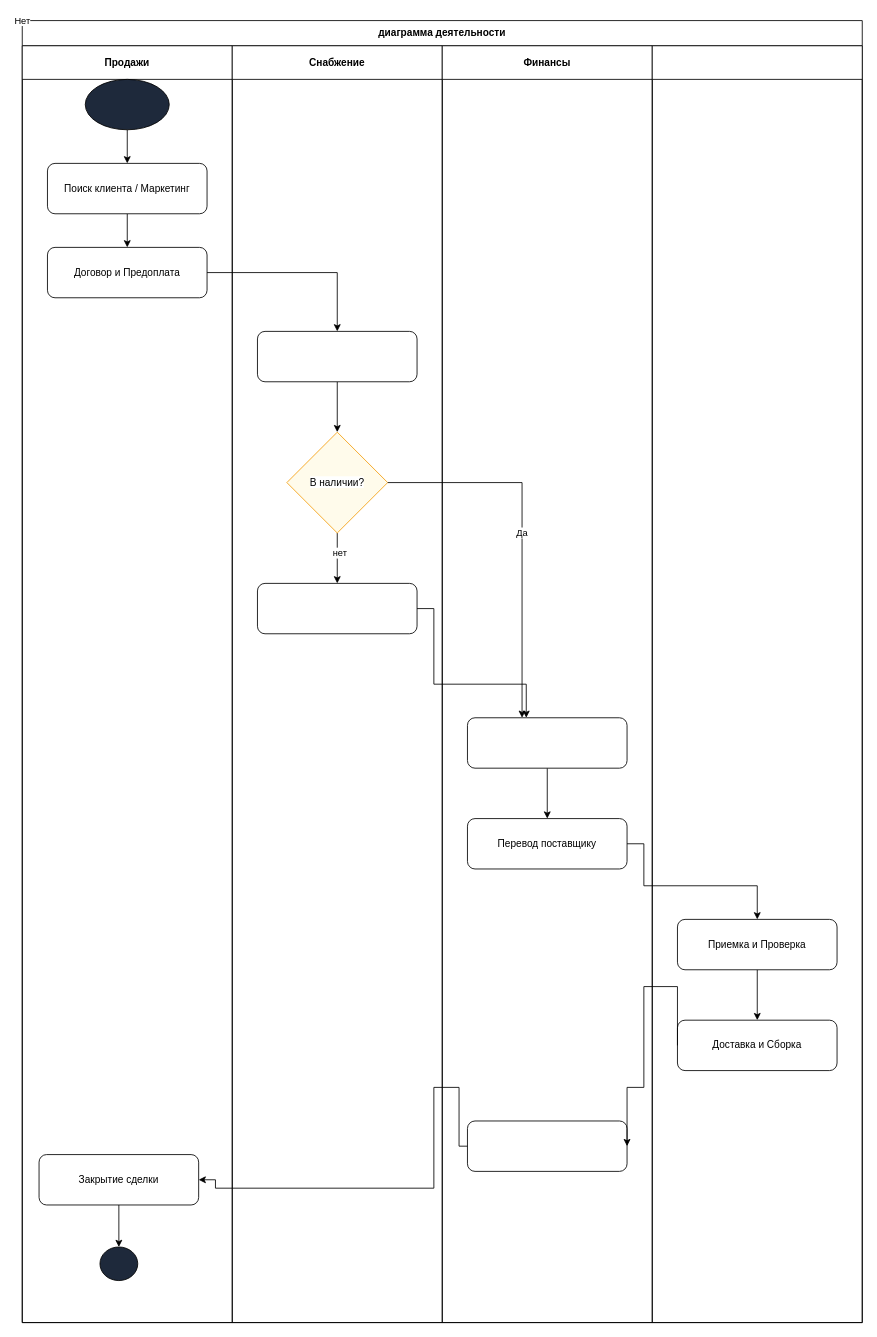
This 877x1337 diagram has some shape labels left out. The box of each missing label's shape, as (x1, y1, x2, y2) in pixels:
Заявка поставщику: (257, 331, 417, 382)
Логистика: (651, 45, 862, 1323)
Ожидание / Заказ: (257, 583, 417, 634)
Оплата от клиента: (467, 717, 627, 768)
Расчет маржи: (467, 1120, 627, 1171)
СТАРТ: (84, 79, 169, 130)
